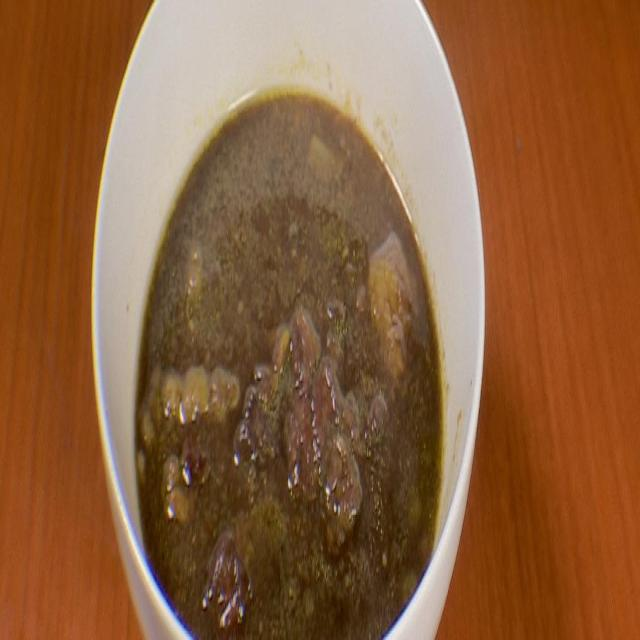Rawon: (141, 93, 440, 616)
